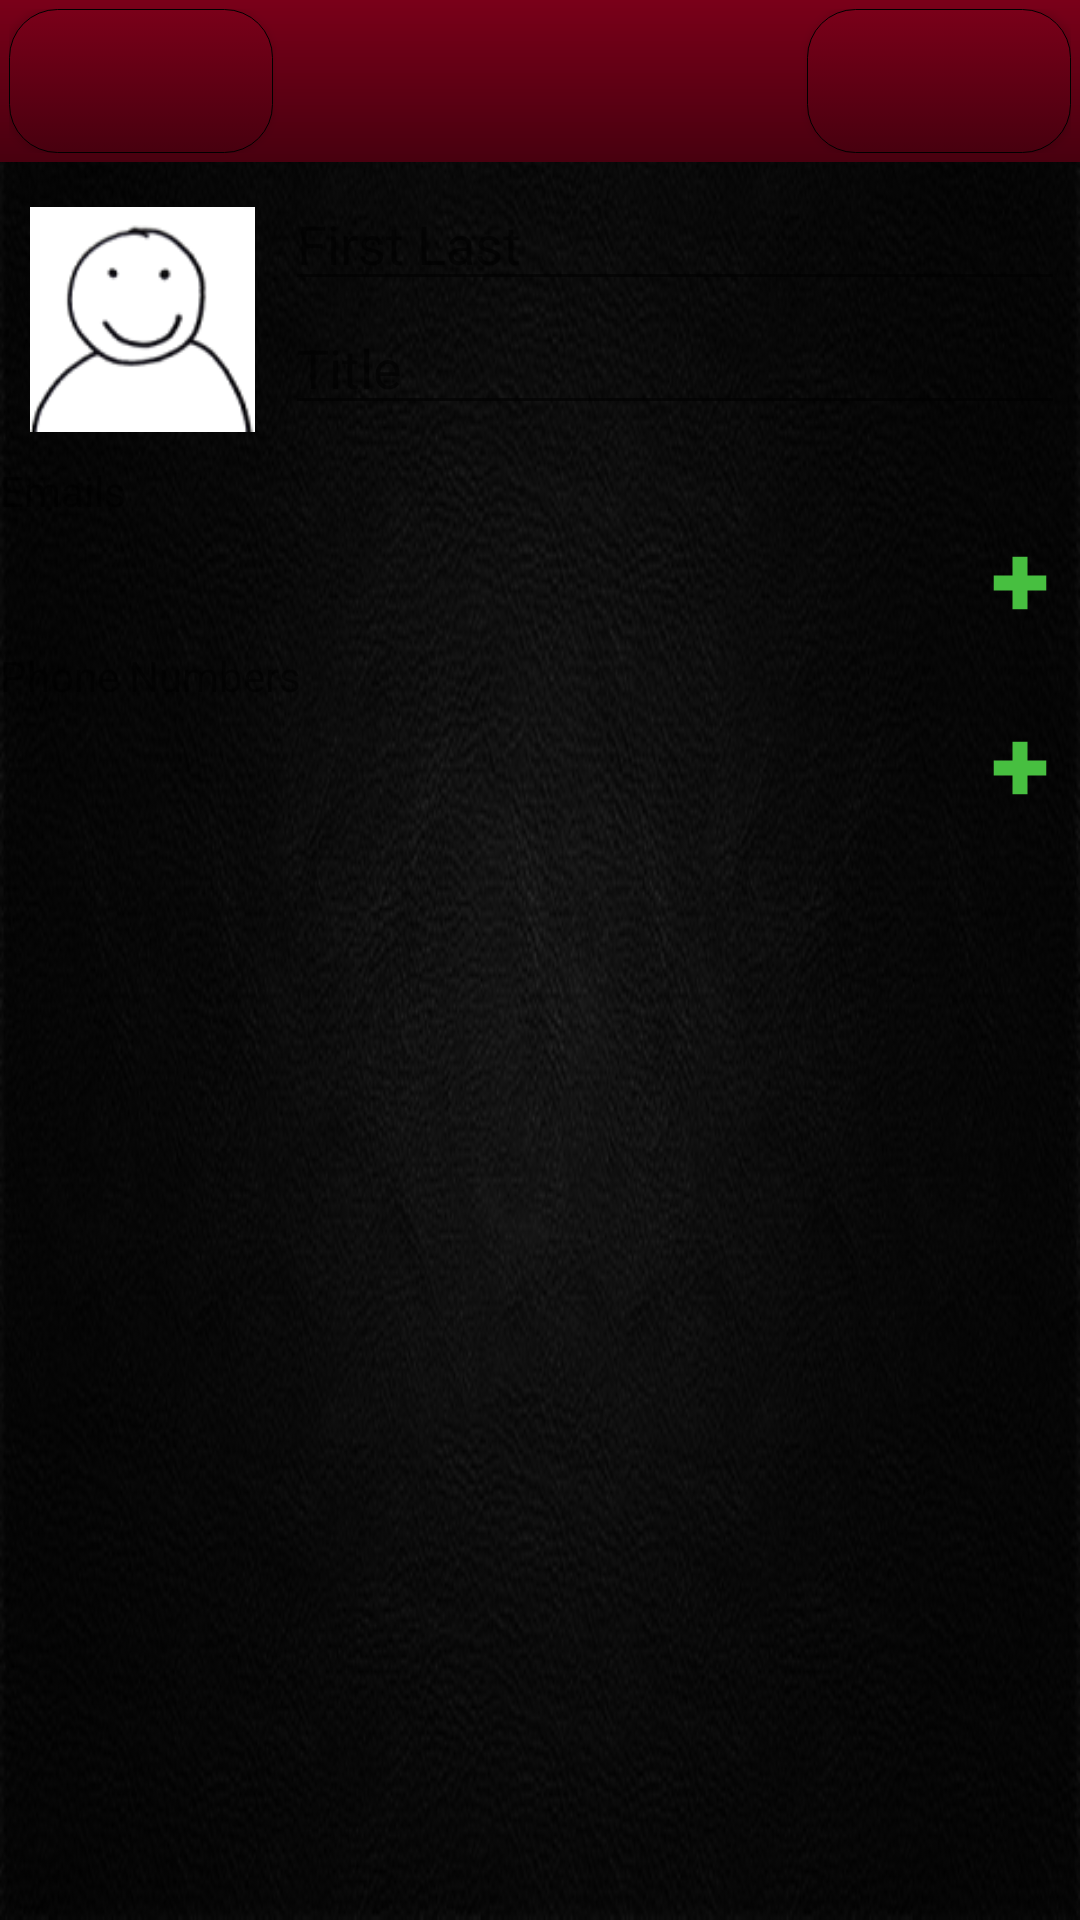

Icons on this 1080w x 1920h Android screen, each with its box as (x1, y1, x2, y2):
Profile Image: (30, 207, 255, 432)
